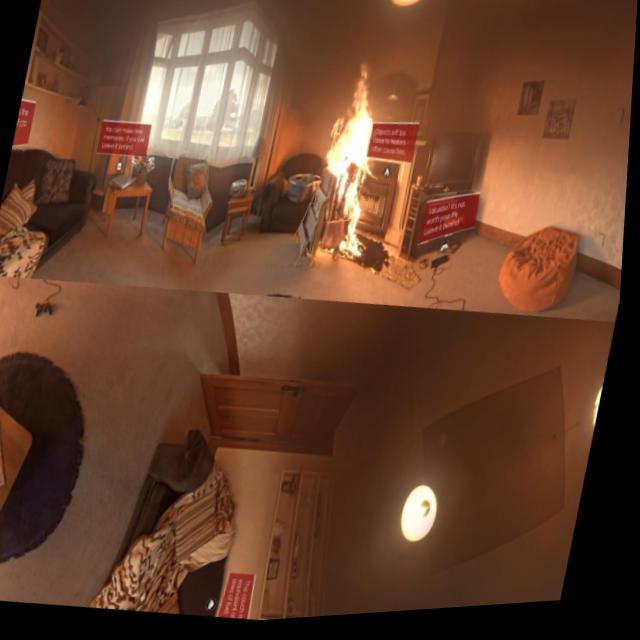fire: (305, 50, 405, 274)
